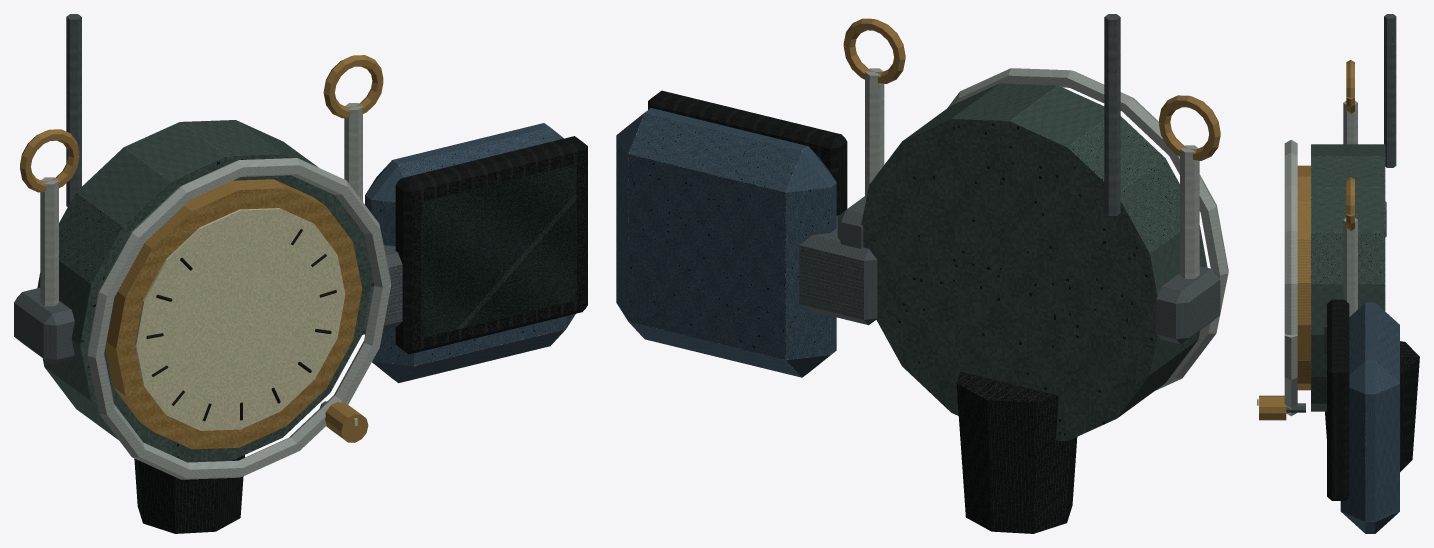
Rendered from blender_anchor_triangulator_2.glb.
3 renders of one model, left to right at view 1: azimuth 30°, elevation 25°; view 2: azimuth 150°, elevation 25°; view 3: azimuth 270°, elevation 25°, orthographic. The views are drawn at different scales.
Parts seen in each view (by area): view 1: blender_anchor_triangulator_2; view 2: blender_anchor_triangulator_2; view 3: blender_anchor_triangulator_2.
Part boxes in pixels (x1,y1,x2,y2): blender_anchor_triangulator_2: [14, 14, 587, 533]; blender_anchor_triangulator_2: [616, 14, 1228, 533]; blender_anchor_triangulator_2: [1257, 14, 1419, 533].
Size of the model in its own units: 0.209 by 0.18 by 0.0658.
Materials: 9 (9 with a texture image).
